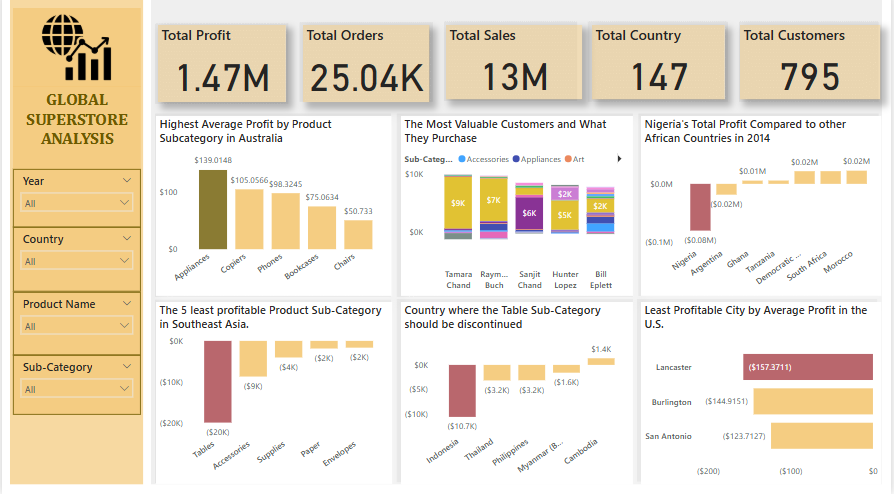

The dashboard page shown, as its layout file describes it:
{"tool":"powerbi","page":{"name":"Page 4","canvas":[1280,720],"ordinal":1},"visuals":[{"type":"columnChart","title":"Nigeria''s Total Profit Compared to other African Countries in 2014","fields":{"Category":["Orders.Country"],"Y":["Sum(Orders.Profit)"]},"box":[919.6,175,346.4,258.9],"z":0},{"type":"columnChart","title":" The 5 least profitable Product Sub-Category in Southeast Asia.  ","fields":{"Y":["Sum(Orders.Profit)"],"Category":["Orders.Sub-Category"]},"box":[221.6,443.3,339.9,262.3],"z":1000},{"type":"columnChart","title":"Country where the Table Sub-Category should be discontinued","fields":{"Category":["Orders.Country"],"Y":["Sum(Orders.Profit)"]},"box":[575,442.9,333.9,262.5],"z":2000},{"type":"barChart","title":"Least Profitable City by Average Profit in the U.S.","fields":{"Category":["Orders.City"],"Y":["Avg(Orders.Profit)"]},"box":[919.6,442.9,346.4,262.5],"z":3000},{"type":"columnChart","title":"Highest Average Profit by Product Subcategory in Australia","fields":{"Category":["Orders.Sub-Category"],"Y":["Avg(Orders.Profit)"]},"box":[221.4,175,339.3,258.9],"z":4000},{"type":"columnChart","title":"The Most Valuable Customers and What They Purchase","fields":{"Y":["Sum(Orders.Profit)"],"Series":["Orders.Sub-Category"],"Category":["Orders.Customer Name"]},"box":[575,175,333.9,258.9],"z":5000},{"type":"card","title":"Total Profit","fields":{"Values":["Sum(Orders.Profit)"]},"box":[225,44.6,183.9,110.7],"z":6000},{"type":"card","title":"Total Orders","fields":{"Values":["Count(Orders.Order ID)"]},"box":[433.9,44.6,182.1,110.7],"z":7000},{"type":"card","title":"Total Sales","fields":{"Values":["Sum(Orders.Sales)"]},"box":[639.3,44.6,196.4,107.1],"z":8000},{"type":"card","title":"Total Country","fields":{"Values":["Count(Orders.Country)"]},"box":[850,44.6,191.1,107.1],"z":9000},{"type":"card","title":"Total Customers","fields":{"Values":["Count(Orders.Customer Name)"]},"box":[1062.5,44.6,201.8,107.1],"z":10000},{"type":"image","box":[16.1,19.6,183.9,112.5],"z":11000},{"type":"textbox","box":[16.1,132.1,183.9,121.4],"z":12000},{"type":"slicer","fields":{"Values":["DateTable.Year"]},"box":[16.1,251.8,183.9,83.9],"z":13000},{"type":"slicer","fields":{"Values":["Orders.Country"]},"box":[16.1,335.7,183.9,92.9],"z":14000},{"type":"slicer","fields":{"Values":["Orders.Product Name"]},"box":[16.1,428.6,183.9,91.1],"z":15000},{"type":"slicer","fields":{"Values":["Orders.Sub-Category"]},"box":[16.1,519.6,183.9,85.7],"z":16000}]}

Visuals, with their boxes in screenshot pixels (x1, y1, x2, y2), scaled from the page's 1280x720 canvas onto the 894x494 screenshot:
"Nigeria''s Total Profit Compared to other African Countries in 2014" columnChart: {"left": 642, "top": 120, "right": 884, "bottom": 298}
" The 5 least profitable Product Sub-Category in Southeast Asia.  " columnChart: {"left": 155, "top": 304, "right": 392, "bottom": 484}
"Country where the Table Sub-Category should be discontinued" columnChart: {"left": 402, "top": 304, "right": 635, "bottom": 484}
"Least Profitable City by Average Profit in the U.S." barChart: {"left": 642, "top": 304, "right": 884, "bottom": 484}
"Highest Average Profit by Product Subcategory in Australia" columnChart: {"left": 155, "top": 120, "right": 392, "bottom": 298}
"The Most Valuable Customers and What They Purchase" columnChart: {"left": 402, "top": 120, "right": 635, "bottom": 298}
"Total Profit" card: {"left": 157, "top": 31, "right": 286, "bottom": 107}
"Total Orders" card: {"left": 303, "top": 31, "right": 430, "bottom": 107}
"Total Sales" card: {"left": 447, "top": 31, "right": 584, "bottom": 104}
"Total Country" card: {"left": 594, "top": 31, "right": 727, "bottom": 104}
"Total Customers" card: {"left": 742, "top": 31, "right": 883, "bottom": 104}
image: {"left": 11, "top": 13, "right": 140, "bottom": 91}
textbox: {"left": 11, "top": 91, "right": 140, "bottom": 174}
slicer - DateTable.Year: {"left": 11, "top": 173, "right": 140, "bottom": 230}
slicer - Orders.Country: {"left": 11, "top": 230, "right": 140, "bottom": 294}
slicer - Orders.Product Name: {"left": 11, "top": 294, "right": 140, "bottom": 357}
slicer - Orders.Sub-Category: {"left": 11, "top": 357, "right": 140, "bottom": 415}
